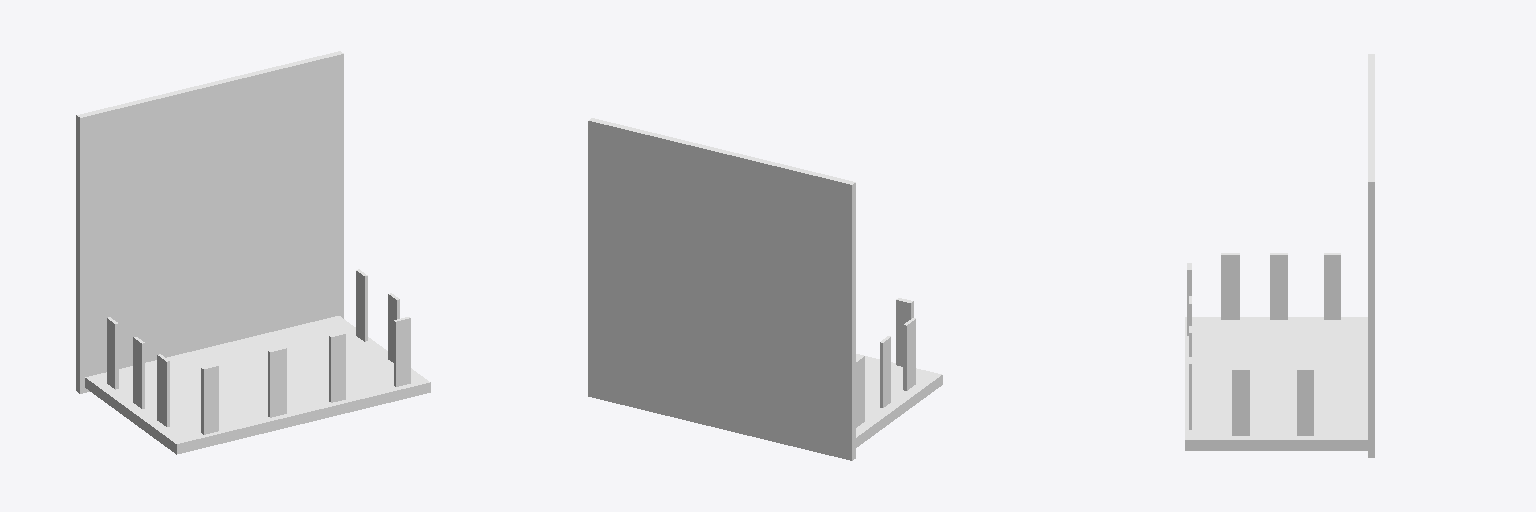
The model's file is balcony1-1-lod2.obj.
The picture shows the model from 3 angles: view 1: azimuth 30°, elevation 25°; view 2: azimuth 150°, elevation 25°; view 3: azimuth 270°, elevation 25°; orthographic projection.
Visible parts, largest first — view 1: lod2; view 2: lod2; view 3: lod2.
Part boxes in pixels (left/top/right/bottom): lod2: left=76, top=51, right=430, bottom=454; lod2: left=588, top=118, right=942, bottom=460; lod2: left=1185, top=54, right=1374, bottom=457.
Size of the model in its own units: 16 by 16 by 10.